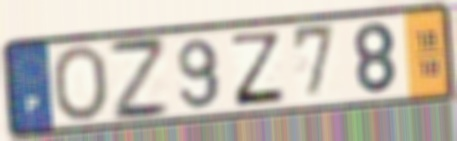7: (291, 22, 339, 104)
8: (352, 21, 400, 96)
9: (175, 34, 224, 112)
O: (49, 43, 111, 124)
Z: (105, 37, 173, 124), (230, 30, 288, 109)
